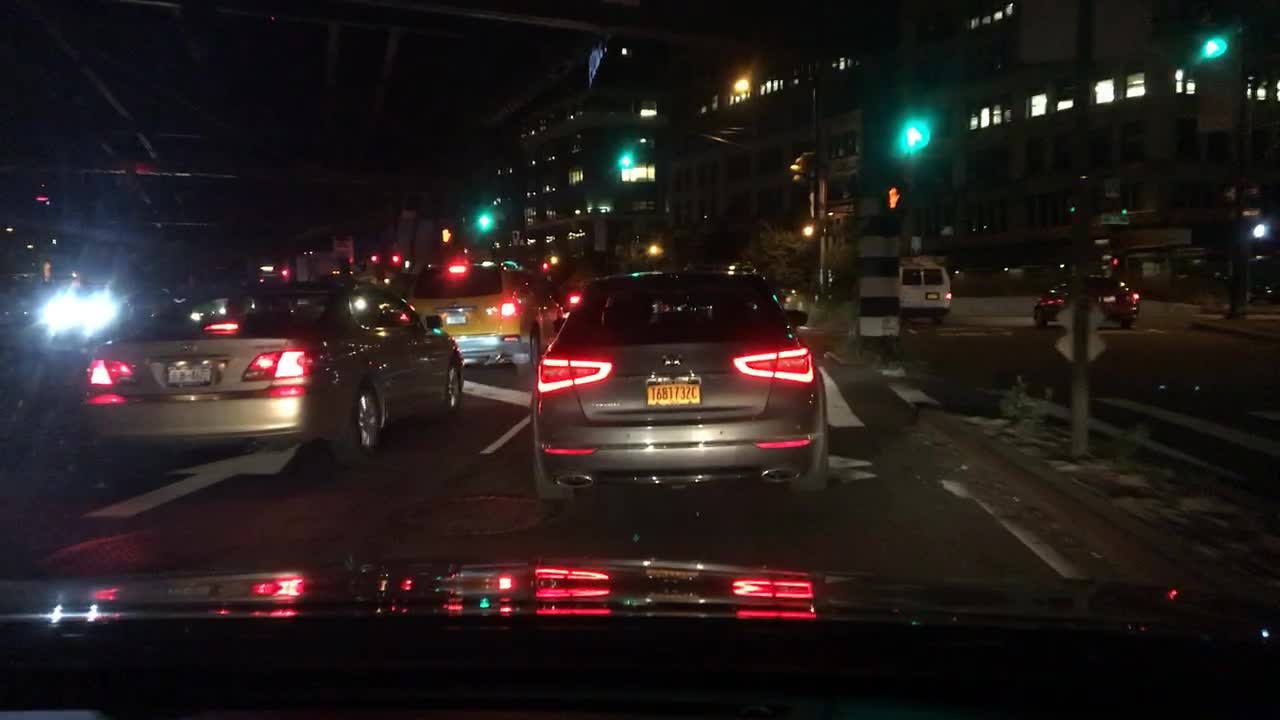car: (73, 277, 462, 470), (526, 269, 831, 497), (403, 262, 561, 376), (1029, 275, 1144, 325), (37, 280, 121, 344), (895, 262, 952, 325)
traffic light: (1196, 22, 1225, 58), (880, 182, 900, 212), (904, 112, 922, 143), (1247, 219, 1266, 242), (477, 202, 492, 230), (621, 140, 632, 167), (390, 249, 401, 264), (278, 262, 286, 281), (371, 249, 381, 263)
traffic sign: (1055, 298, 1106, 361), (1100, 212, 1129, 225), (1094, 235, 1112, 244)
